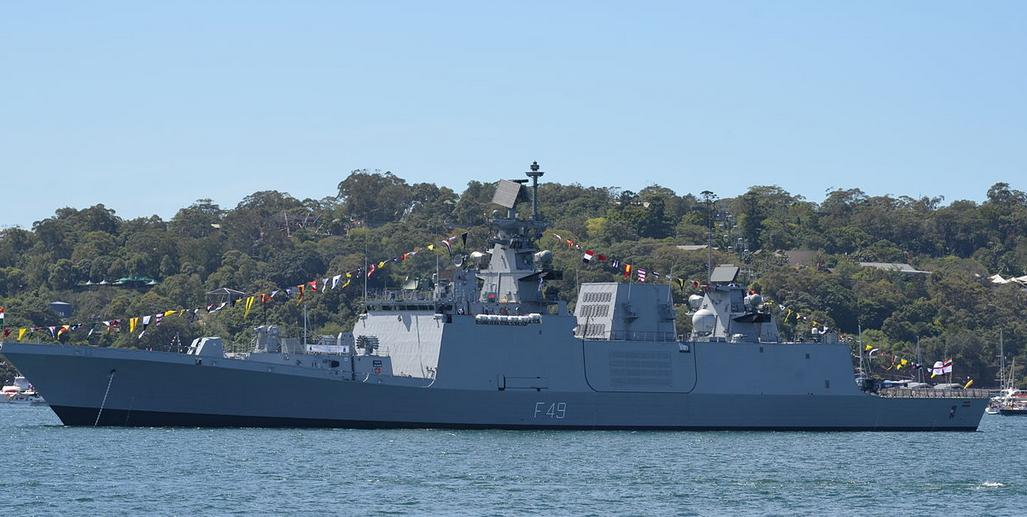warship: (2, 157, 993, 429)
